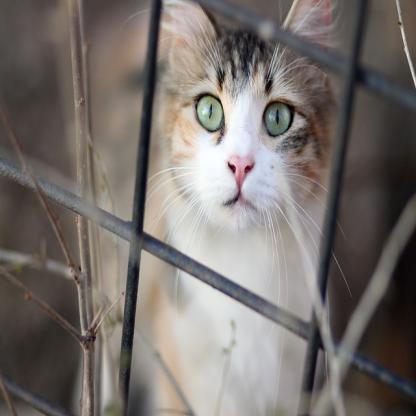cat: (159, 0, 340, 251)
